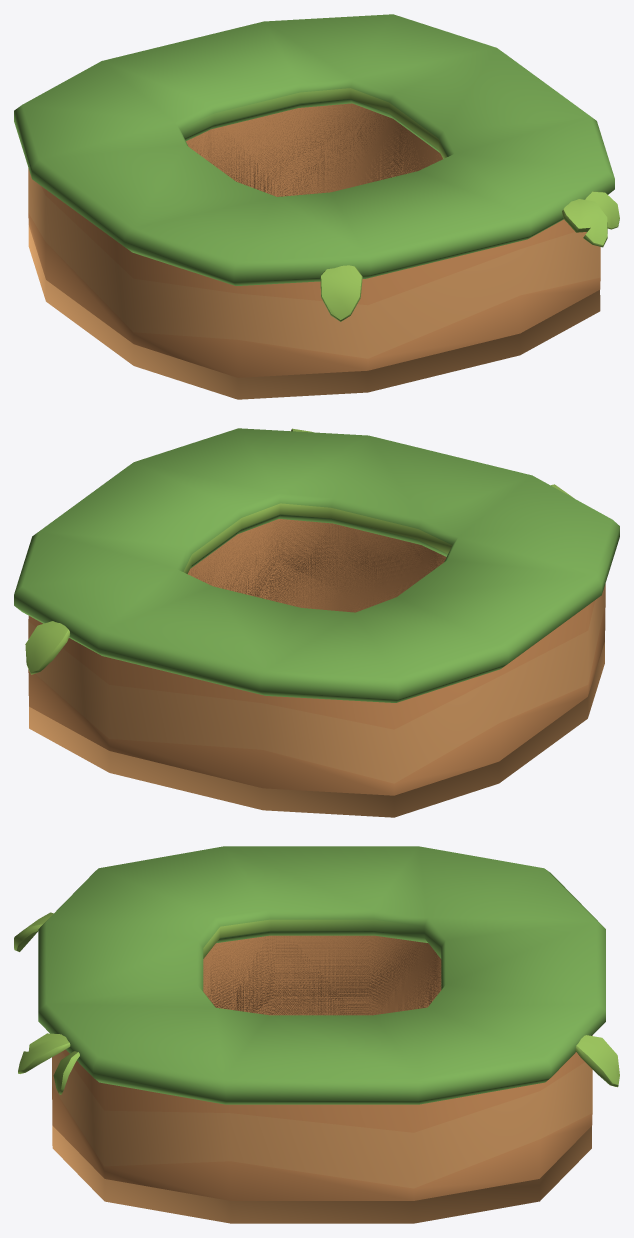
The model's file is platform 03.fbx.
3 views of the same model, one above another, from view 1: azimuth 30°, elevation 25°; view 2: azimuth 150°, elevation 25°; view 3: azimuth 270°, elevation 25° (orthographic). The views are drawn at different scales.
Visible parts, largest first — view 1: platform 03, platform 03 low; view 2: platform 03, platform 03 low; view 3: platform 03, platform 03 low.
Part boxes in pixels (x1,y1,x2,y2): platform 03: (14, 14, 619, 377); platform 03 low: (28, 103, 600, 399); platform 03: (14, 428, 619, 795); platform 03 low: (29, 519, 604, 817); platform 03: (14, 846, 619, 1200); platform 03 low: (52, 935, 591, 1223).
Size of the model in its own units: 210 by 60.04 by 224.
Materials: 1 (1 with a texture image).
